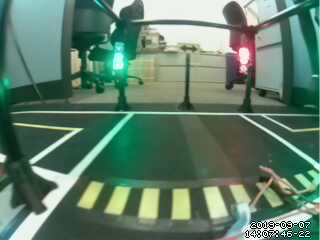Left_Right_sign: (174, 41, 204, 54)
Traffic_light_green: (112, 43, 124, 70)
Traffic_light_red: (240, 46, 252, 78)
